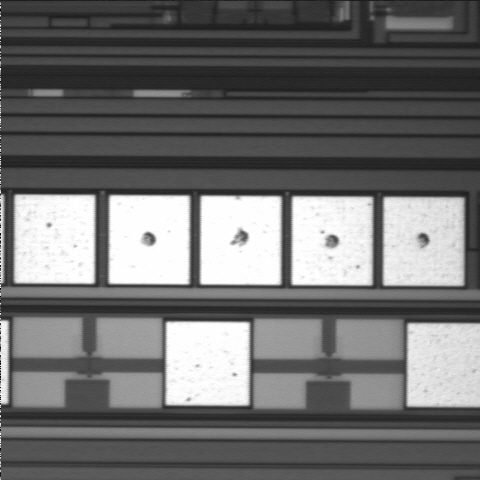pad: (14, 195, 95, 284), (109, 195, 190, 284), (200, 196, 281, 285), (292, 196, 373, 285), (383, 197, 464, 286), (166, 322, 250, 406)
